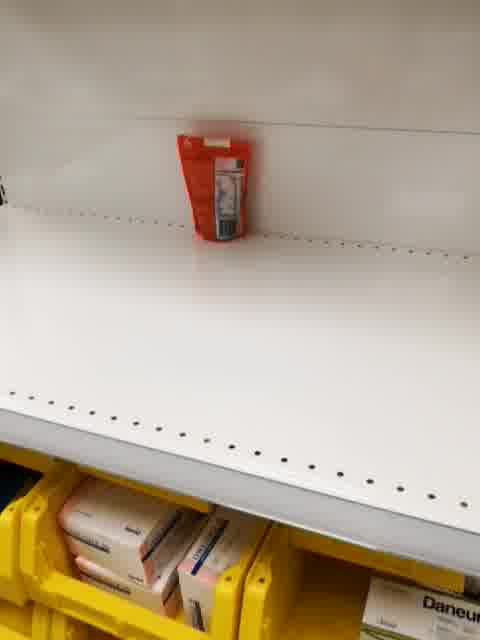whitechia: (174, 131, 261, 245)
